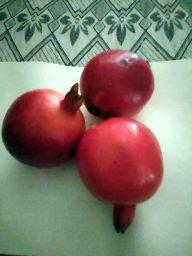pomegranate: (74, 116, 164, 234), (2, 83, 86, 167), (79, 49, 155, 120)
